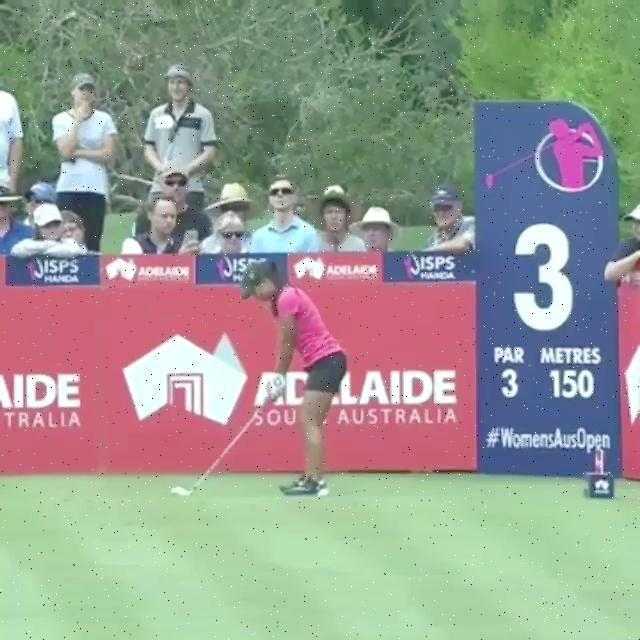ClubHead: (171, 487, 190, 496)
